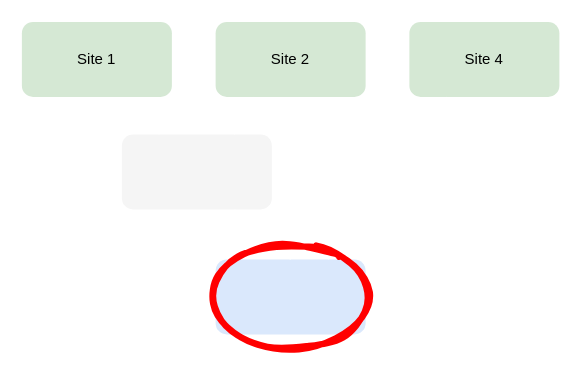
Some shapes in this 580 by 376 pixel diagram are drawn without their labels. Here are the shapes that lost their labels. From the top down, the centre of each, then its label:
At [196,171]: "Component Library (Vue)".
At [290,296]: "Pattern Library".
